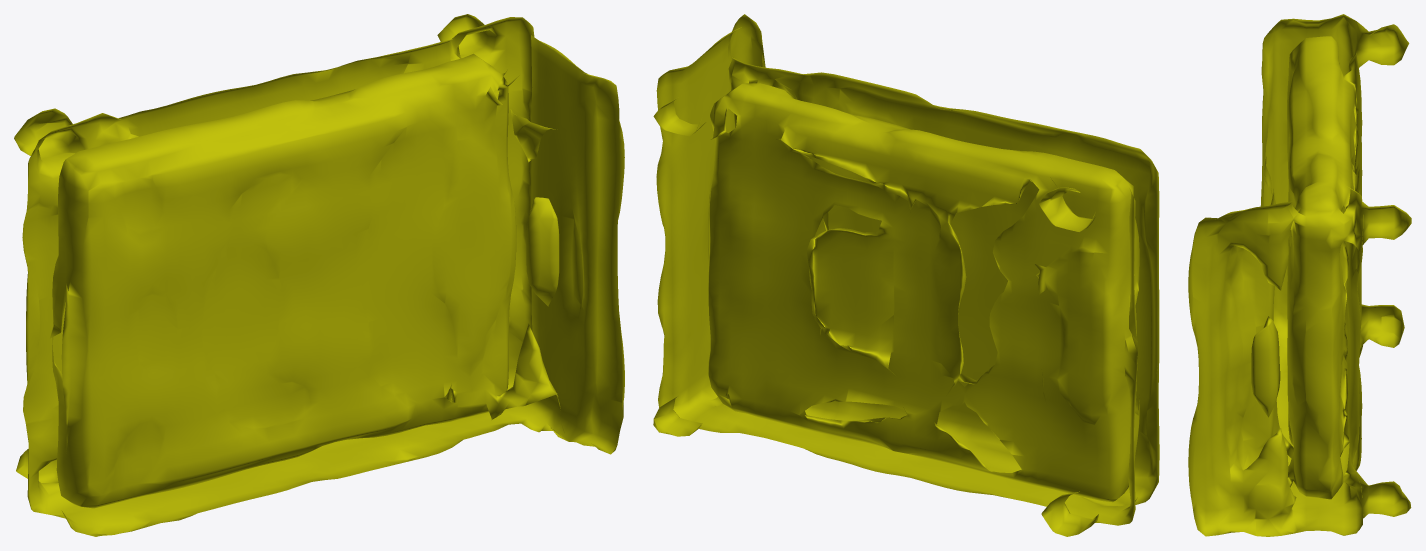
3 renders of one model, left to right at view 1: azimuth 30°, elevation 25°; view 2: azimuth 150°, elevation 25°; view 3: azimuth 270°, elevation 25°, orthographic. The views are drawn at different scales.
Parts seen in each view (by area): view 1: world; view 2: world; view 3: world.
Boxes of the visible parts, <box> form: world: <box>14,14,624,536</box>; world: <box>653,14,1159,536</box>; world: <box>1188,14,1411,536</box>.
Bounding box in the file's own units: 40.61 × 29.35 × 17.79.
